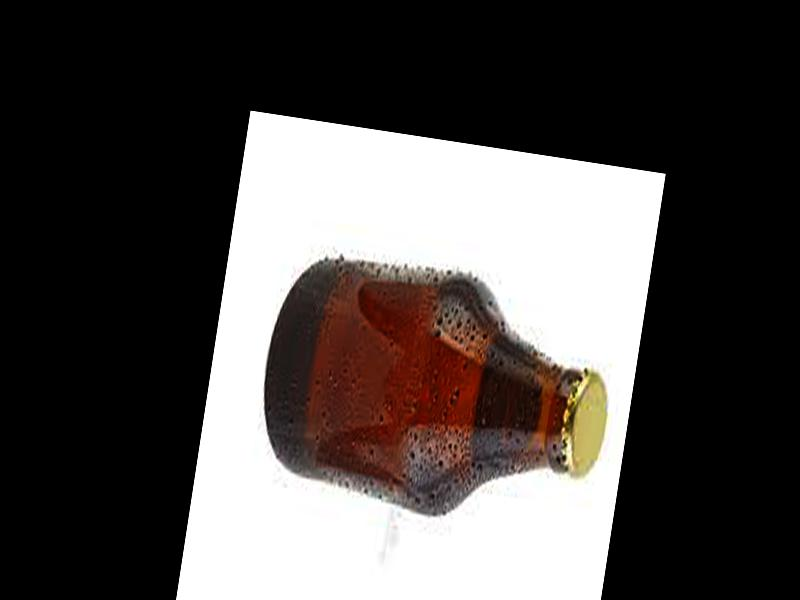Beer: (252, 252, 623, 521)
